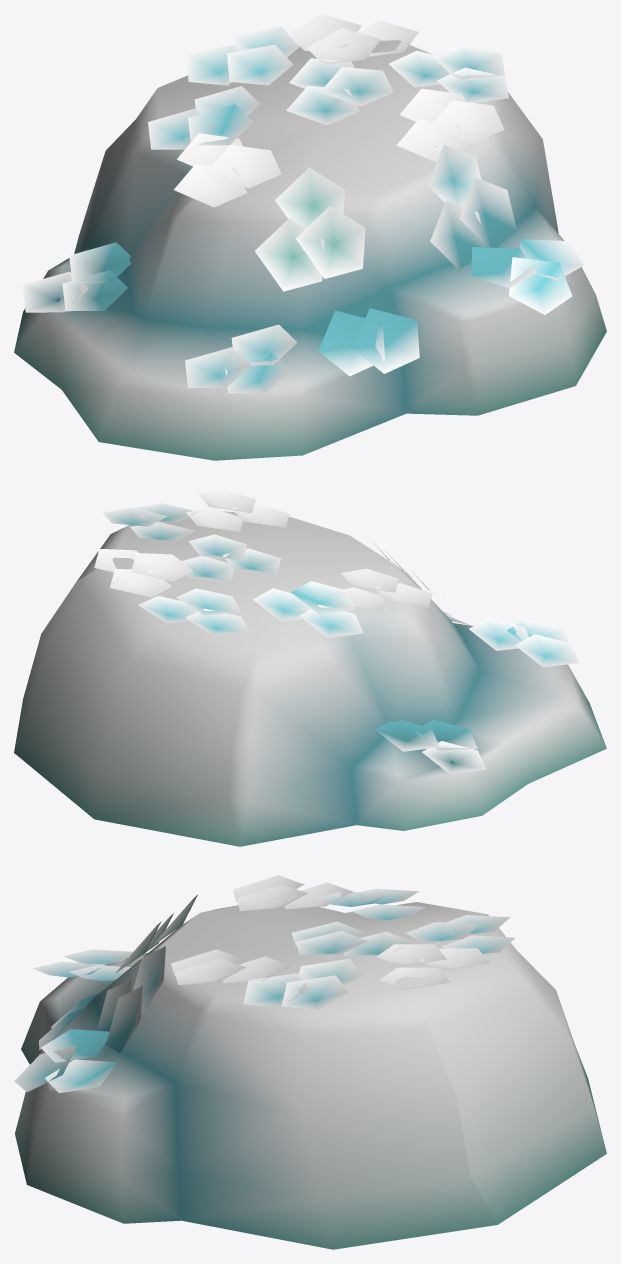
The model's file is rock-large.glb.
The picture shows the model from 3 angles, top to bottom: view 1: azimuth 30°, elevation 25°; view 2: azimuth 150°, elevation 25°; view 3: azimuth 270°, elevation 25°; orthographic projection. The views are drawn at different scales.
Visible parts, largest first — view 1: rock-large; view 2: rock-large; view 3: rock-large.
Part boxes in pixels (<box>): rock-large: <box>14,14,606,460</box>; rock-large: <box>14,489,606,846</box>; rock-large: <box>14,875,606,1249</box>.
Bounding box in the file's own units: 2.07 × 0.7737 × 1.93.
